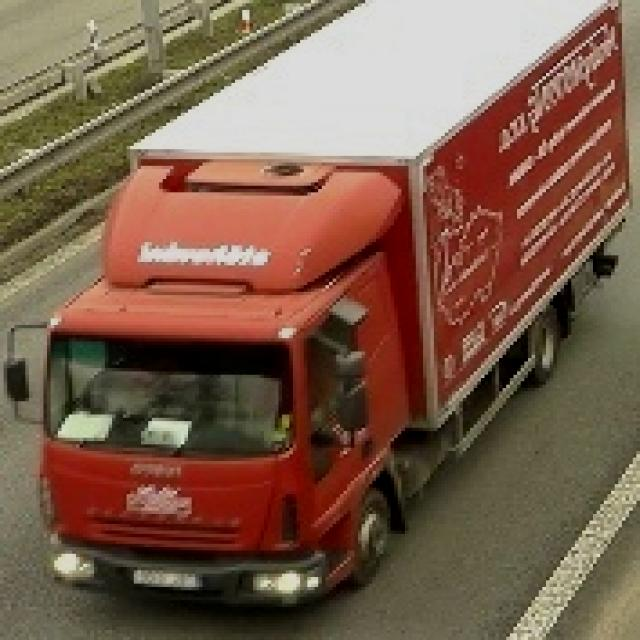truck: (1, 1, 637, 604)
